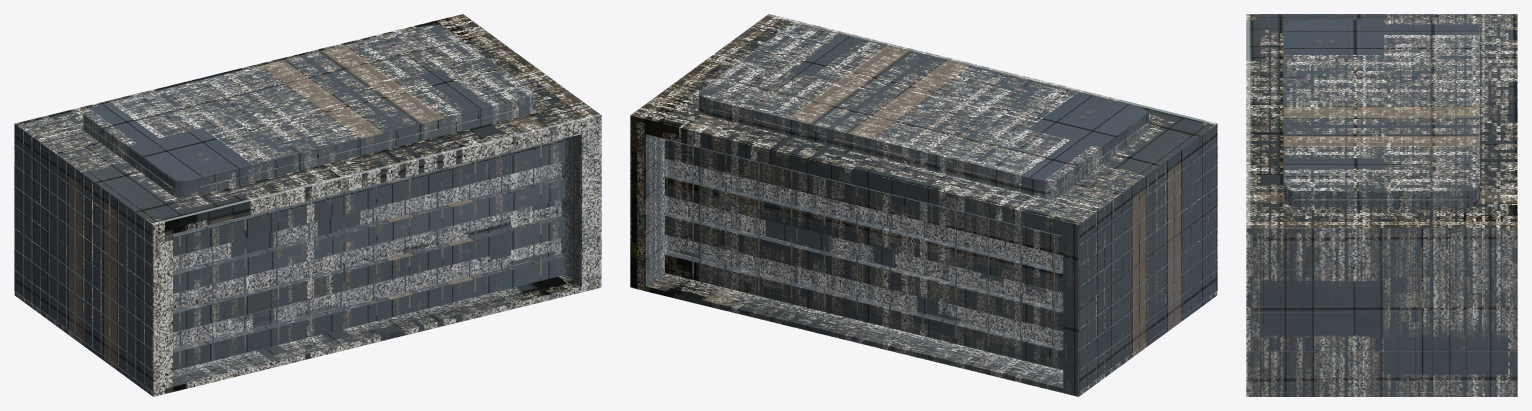
File: longBuilding.fbx
3 views of the same model, side by side, from view 1: azimuth 30°, elevation 25°; view 2: azimuth 150°, elevation 25°; view 3: azimuth 270°, elevation 25° (orthographic). The views are drawn at different scales.
Parts seen in each view (by area): view 1: Cube.016; view 2: Cube.016; view 3: Cube.016.
Part boxes in pixels (box(x1,y1,x2,y2)): Cube.016: box(14, 14, 601, 396); Cube.016: box(630, 14, 1217, 396); Cube.016: box(1246, 14, 1517, 396).
Bounding box in the file's own units: 399 × 160 × 213.
Materials: 1 (1 with a texture image).
